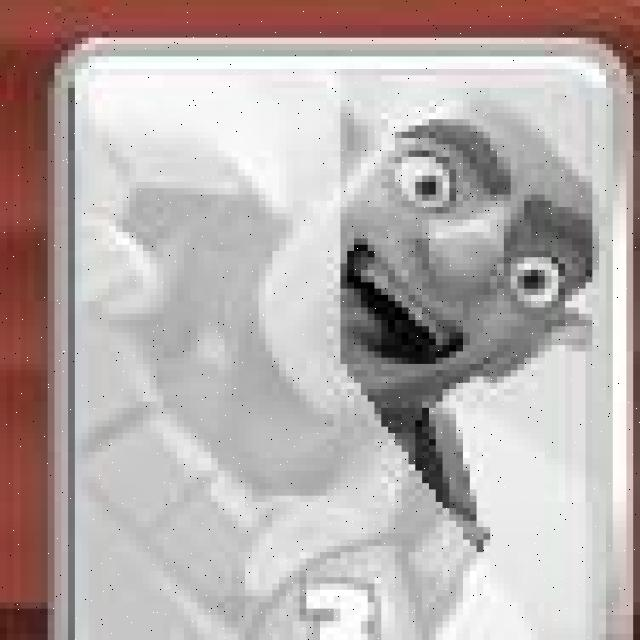Goblin_Barrel: (53, 41, 633, 640)
